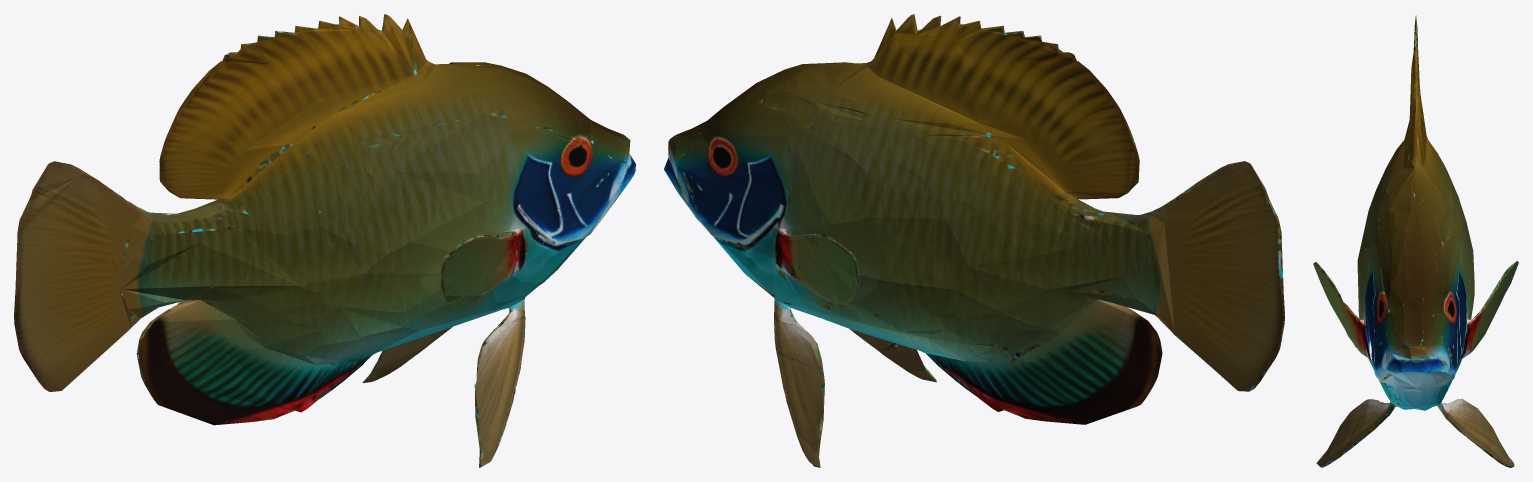
File: fish_0042_smpl23_resized.glb
The picture shows the model from 3 angles, left to right: view 1: azimuth 30°, elevation 25°; view 2: azimuth 150°, elevation 25°; view 3: azimuth 270°, elevation 25°; orthographic projection. The views are drawn at different scales.
Parts seen in each view (by area): view 1: world; view 2: world; view 3: world.
Part boxes in pixels (x1,y1,x2,y2): world: (14,14,635,467); world: (664,14,1284,467); world: (1313,15,1518,467).
Bounding box in the file's own units: 1.98 × 1.33 × 0.6825.
Materials: 1 (1 with a texture image).
